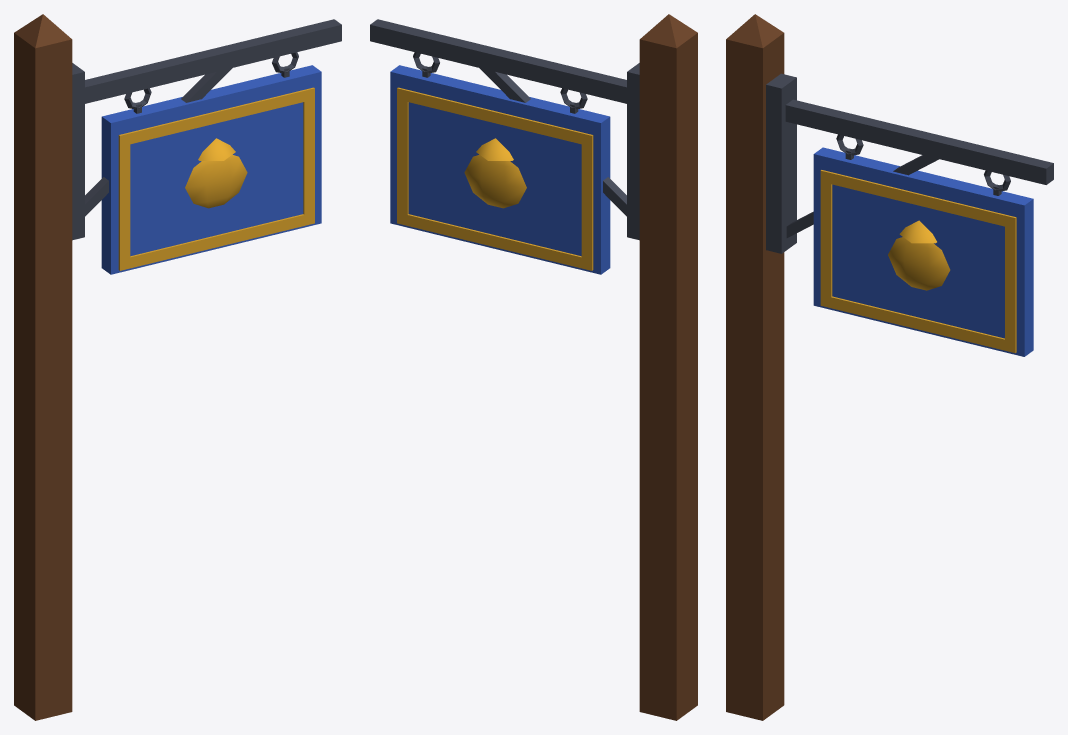
Rendered from pixor-library-sign-shop.glb.
3 views of the same model, side by side, from view 1: azimuth 30°, elevation 25°; view 2: azimuth 150°, elevation 25°; view 3: azimuth 330°, elevation 25° (orthographic).
Parts seen in each view (by area): view 1: Sign post, Sign board, Sign bracket, Sign border, Sign purse; view 2: Sign post, Sign board, Sign bracket, Sign border, Sign purse; view 3: Sign post, Sign board, Sign bracket, Sign border, Sign purse.
Part boxes in pixels (x1=…): Sign post: x1=14, y1=14, x2=72, y2=720; Sign board: x1=101, y1=65, x2=321, y2=274; Sign bracket: x1=72, y1=19, x2=341, y2=240; Sign border: x1=118, y1=87, x2=314, y2=270; Sign purse: x1=185, y1=138, x2=247, y2=208; Sign post: x1=639, y1=14, x2=697, y2=720; Sign board: x1=390, y1=65, x2=610, y2=274; Sign bracket: x1=370, y1=19, x2=639, y2=240; Sign border: x1=397, y1=87, x2=593, y2=270; Sign purse: x1=464, y1=138, x2=526, y2=208; Sign post: x1=726, y1=14, x2=784, y2=720; Sign board: x1=813, y1=147, x2=1033, y2=356; Sign bracket: x1=766, y1=73, x2=1053, y2=253; Sign border: x1=820, y1=170, x2=1016, y2=353; Sign purse: x1=888, y1=220, x2=950, y2=290.
Size of the model in its own units: 1.19 by 2.52 by 0.16.
